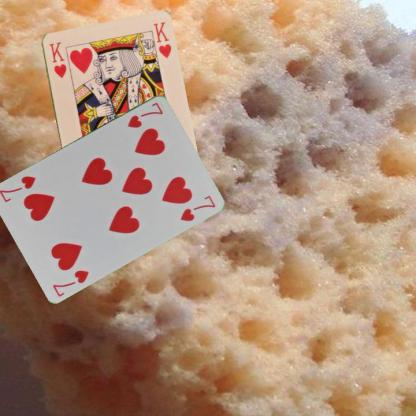7h: (50, 267, 90, 298), (125, 99, 164, 129)
Kh: (46, 38, 68, 80)
